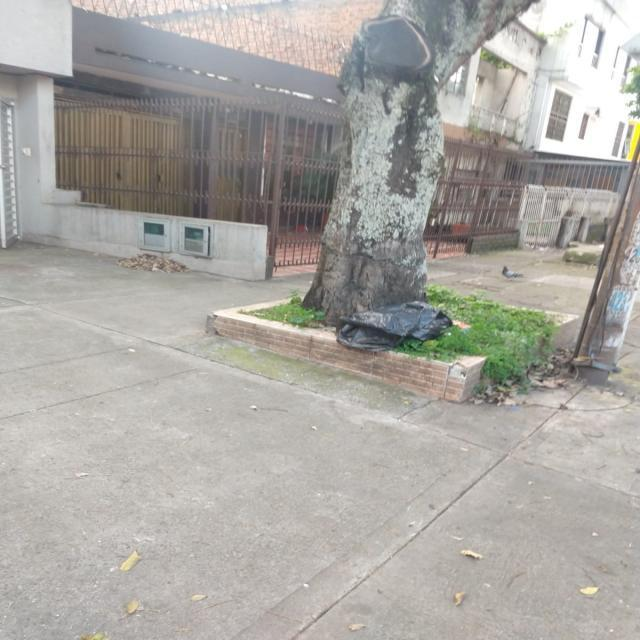Garbage_Bag: (328, 296, 452, 352)
